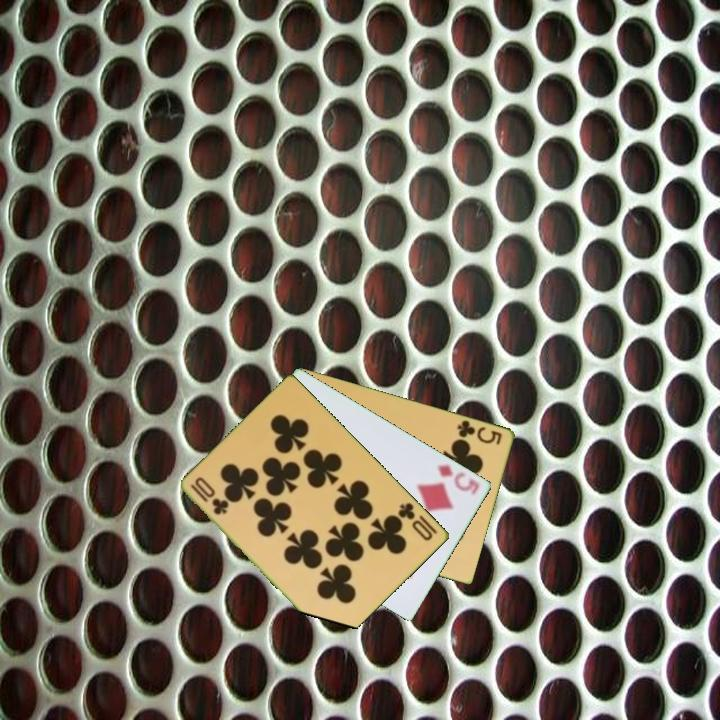10c: (395, 499, 436, 544), (187, 480, 231, 518)
5c: (454, 416, 505, 447)
5d: (434, 460, 483, 498)
